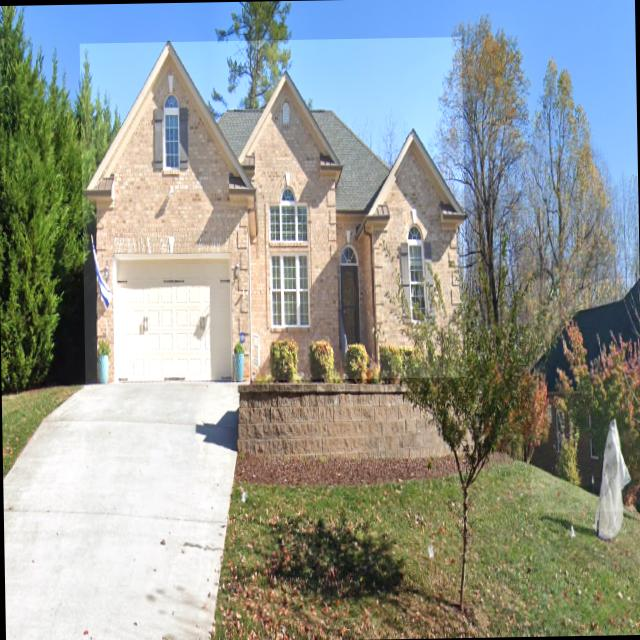House: (79, 37, 467, 383), (527, 277, 640, 512)
